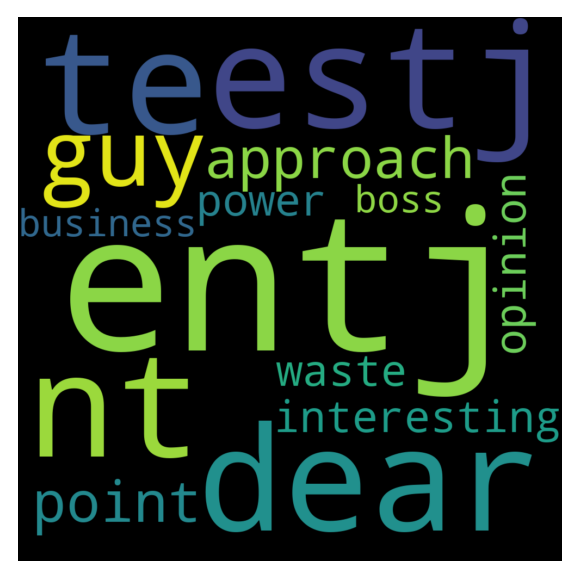

What the dashboard file says about the page in this screenshot:
{"tool":"tableau","page":{"name":"Dashboard 1","canvas":[1000,800],"ordinal":0},"visuals":[{"type":"worksheet","title":"Topics","mark":"Automatic","box":[74,14,886,777]},{"type":"worksheet","title":"Topics","mark":"Automatic","param":"[federated.0f70d2m07pqro519ml5wd1i6v16a].[none:type:nk]","box":[10,18,72,40]}]}

Visuals, with their boxes in screenshot pixels (x1, y1, x2, y2):
"Topics" worksheet: (17,15,561,491)
"Topics" worksheet: (0,17,22,42)
